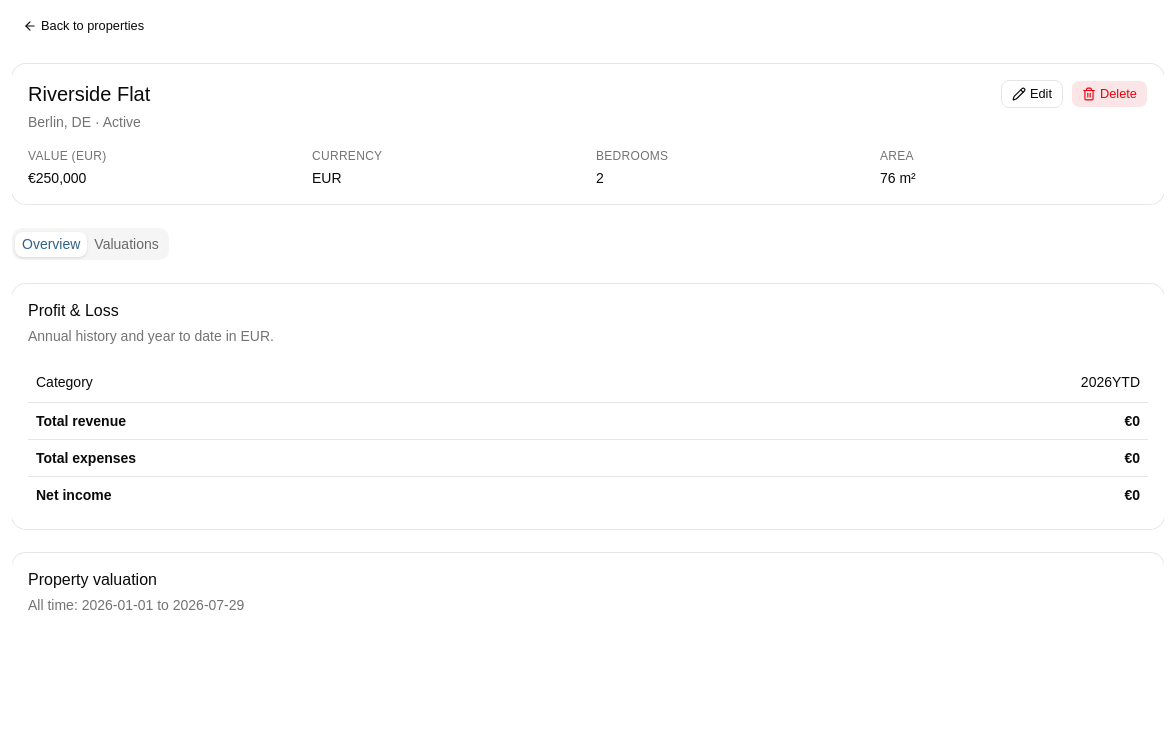
Test: PropertyDetailPage › switches to the Valuations tab on click
Expected: the text "Riverside Flat" is shown, [28,83,150,105]
What coordinates should you click on to do the following:
click the tab "Valuations"
I would click on:
 (127, 244)
Its box is [87,232,166,256].
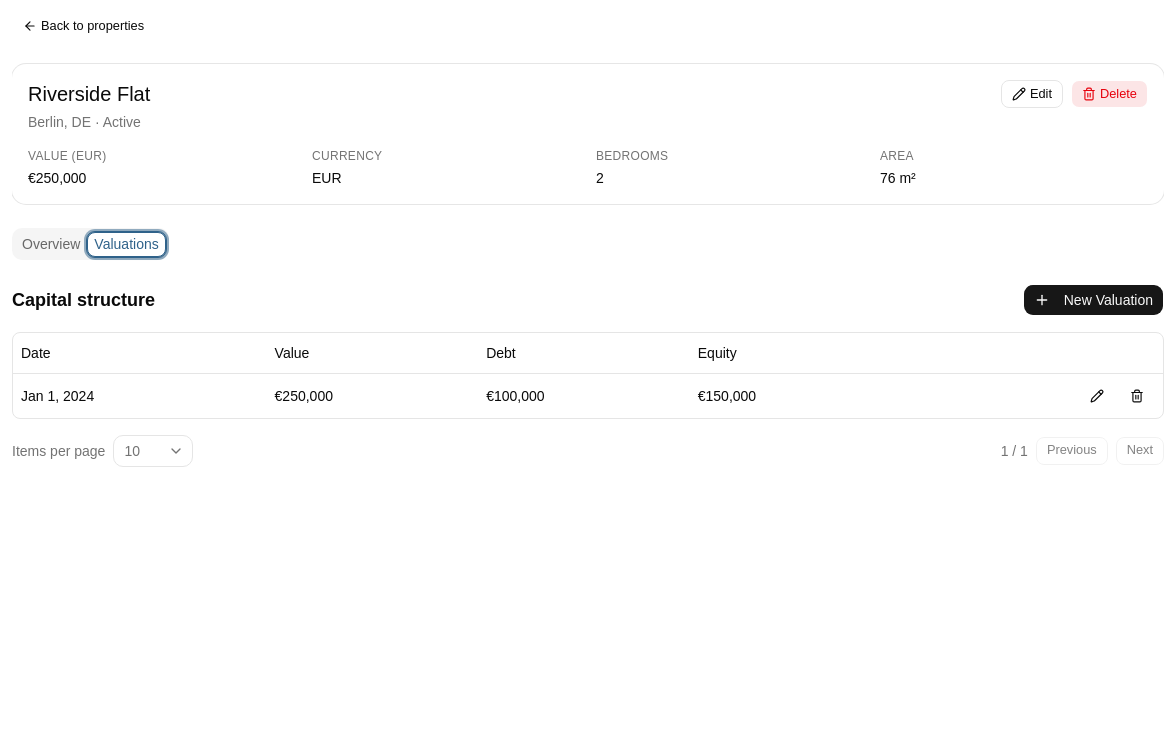
Result: the heading "Capital structure" is shown at [12,286,155,314]
Result: the button "New Valuation" is shown at [1023,284,1164,316]
